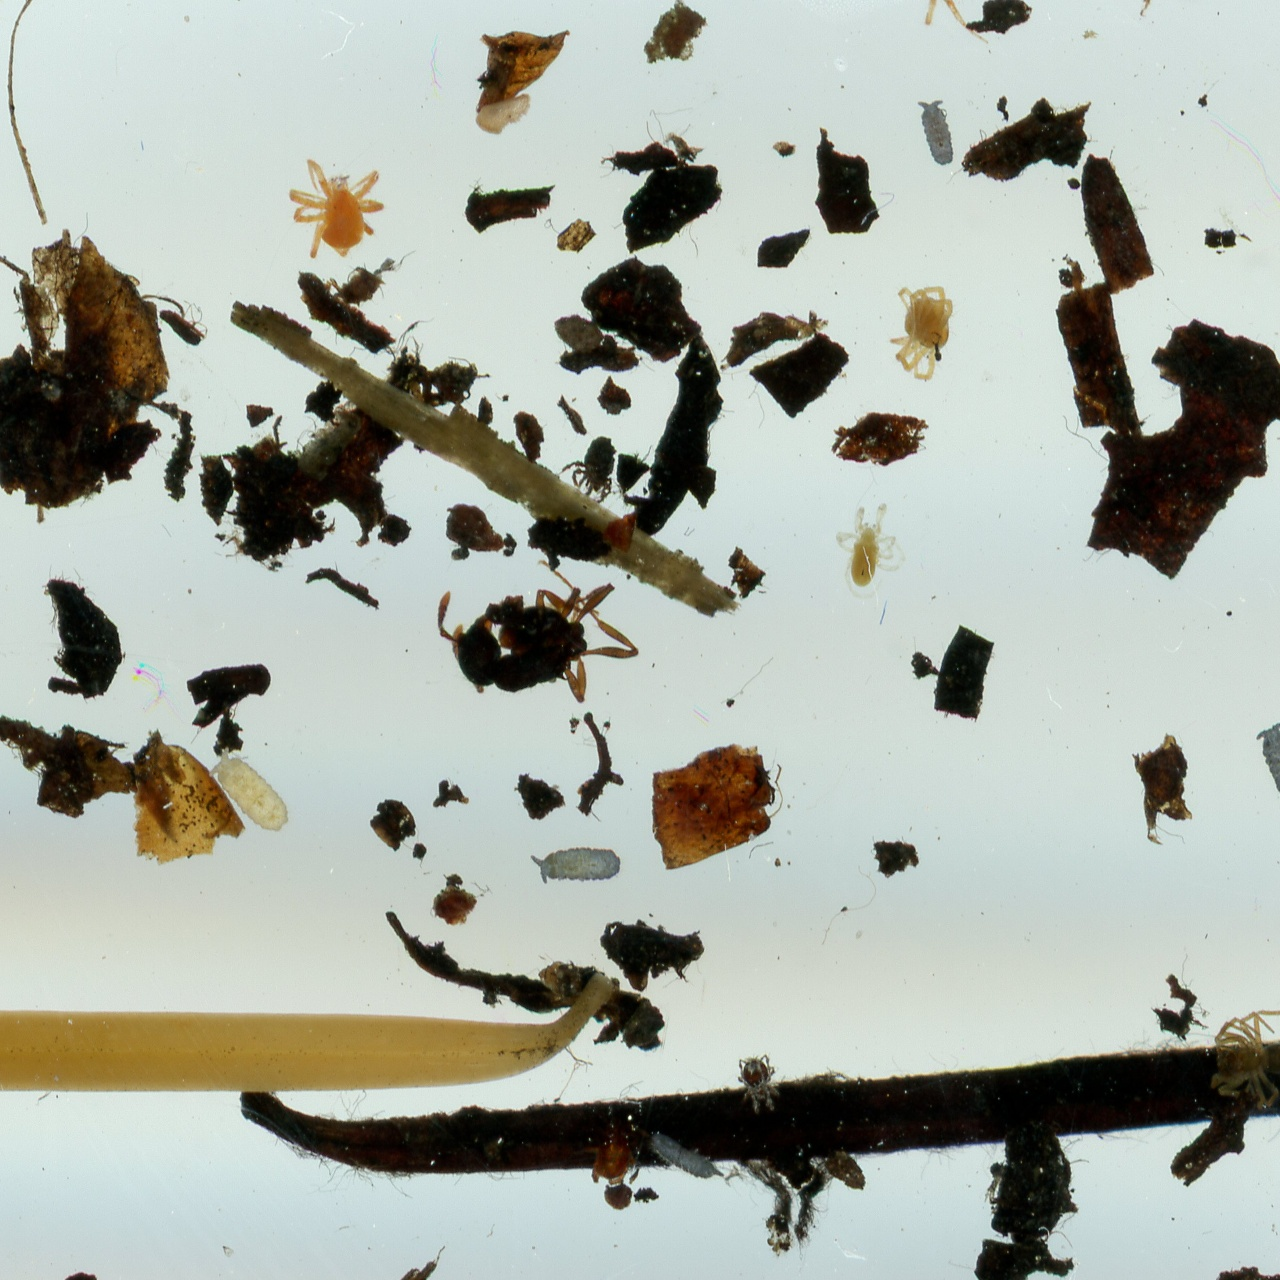arthropod: (435, 557, 640, 707), (199, 740, 302, 846), (287, 156, 386, 261), (282, 396, 373, 493), (832, 498, 908, 602), (1210, 1007, 1280, 1117), (890, 286, 956, 381), (645, 1117, 731, 1190), (876, 0, 1003, 49), (558, 434, 617, 506), (574, 1123, 634, 1189), (529, 845, 624, 885), (912, 95, 961, 170), (731, 1053, 785, 1117), (1250, 716, 1280, 811), (1129, 0, 1232, 25)
